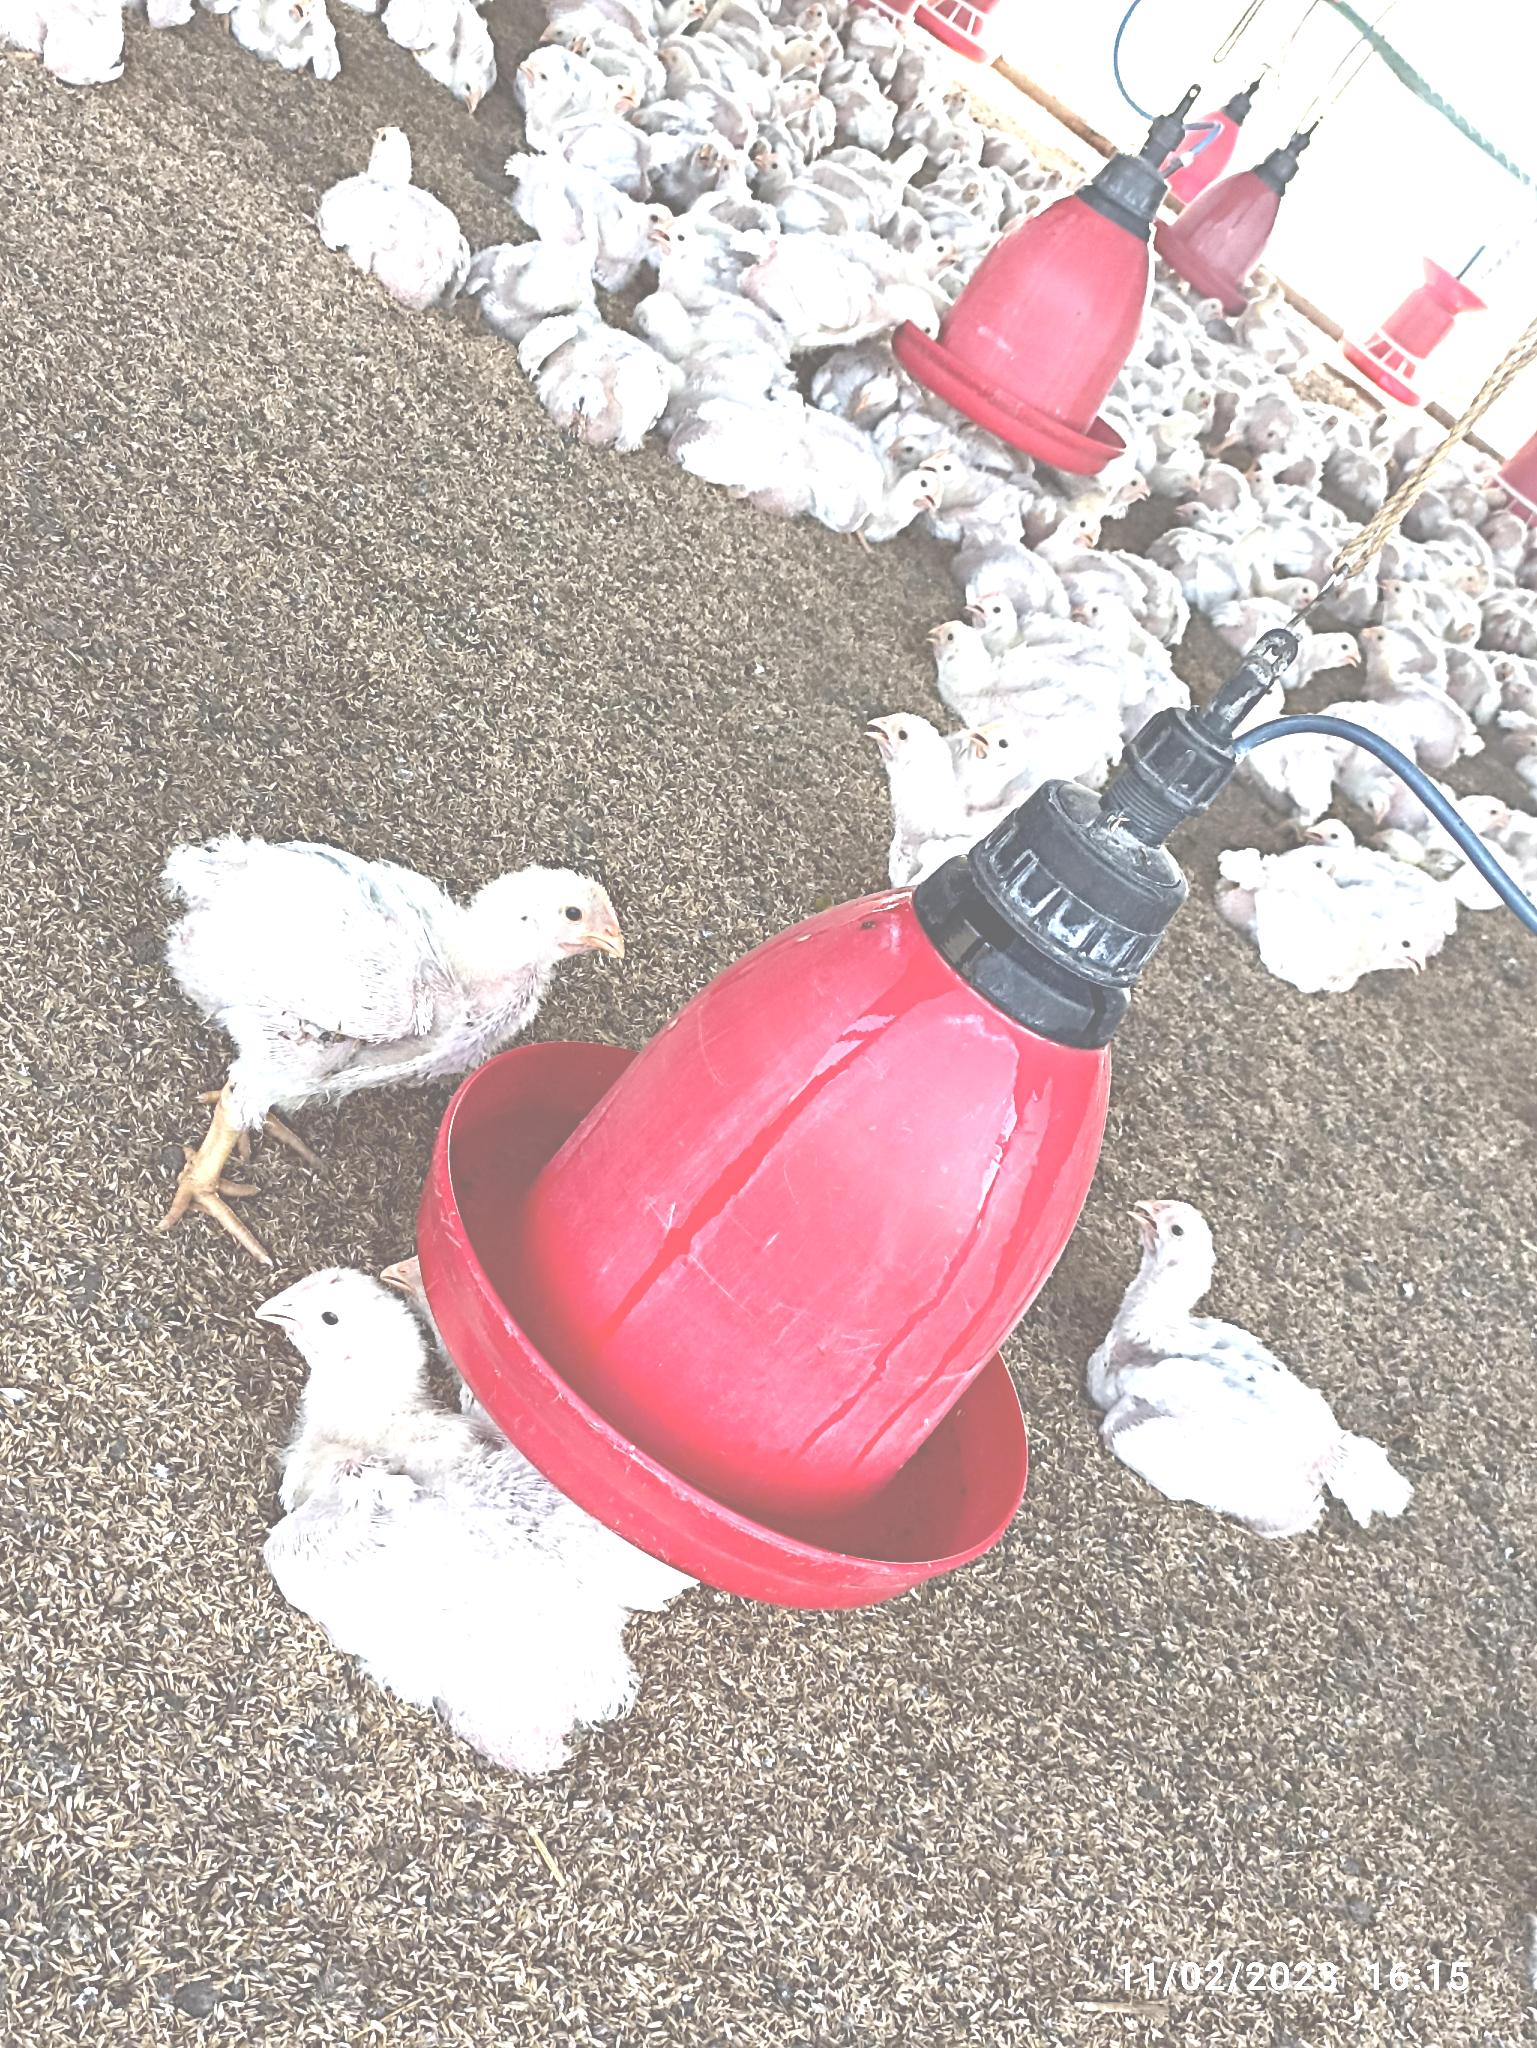Pollos: (244, 1259, 634, 1704), (1120, 1181, 1409, 1543), (197, 851, 631, 1088), (1237, 859, 1451, 1001), (923, 613, 1116, 762), (316, 123, 457, 289), (777, 408, 953, 539), (634, 205, 768, 352), (534, 316, 664, 449)
